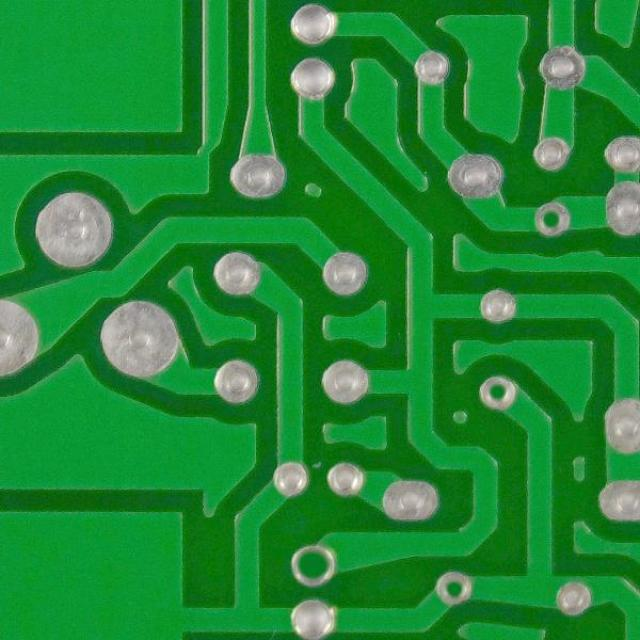Missing_Hole: (286, 538, 340, 591), (429, 568, 477, 609), (474, 372, 520, 414), (530, 198, 573, 239)
